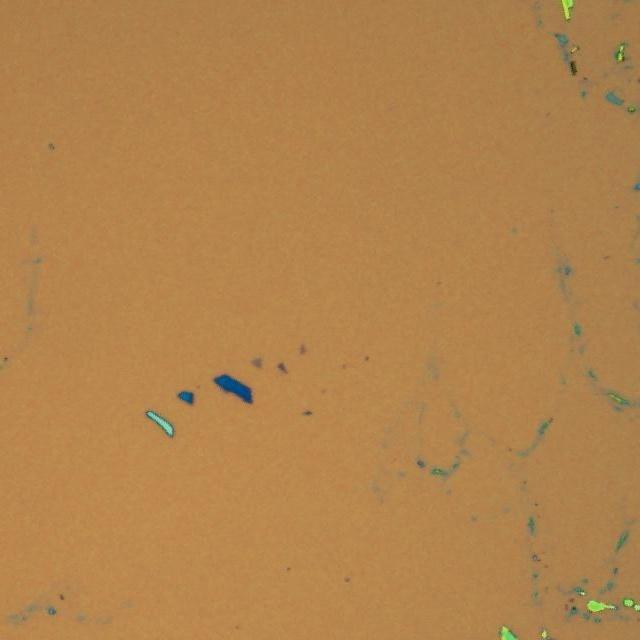monolayer-eWW4: (250, 356, 262, 368)
